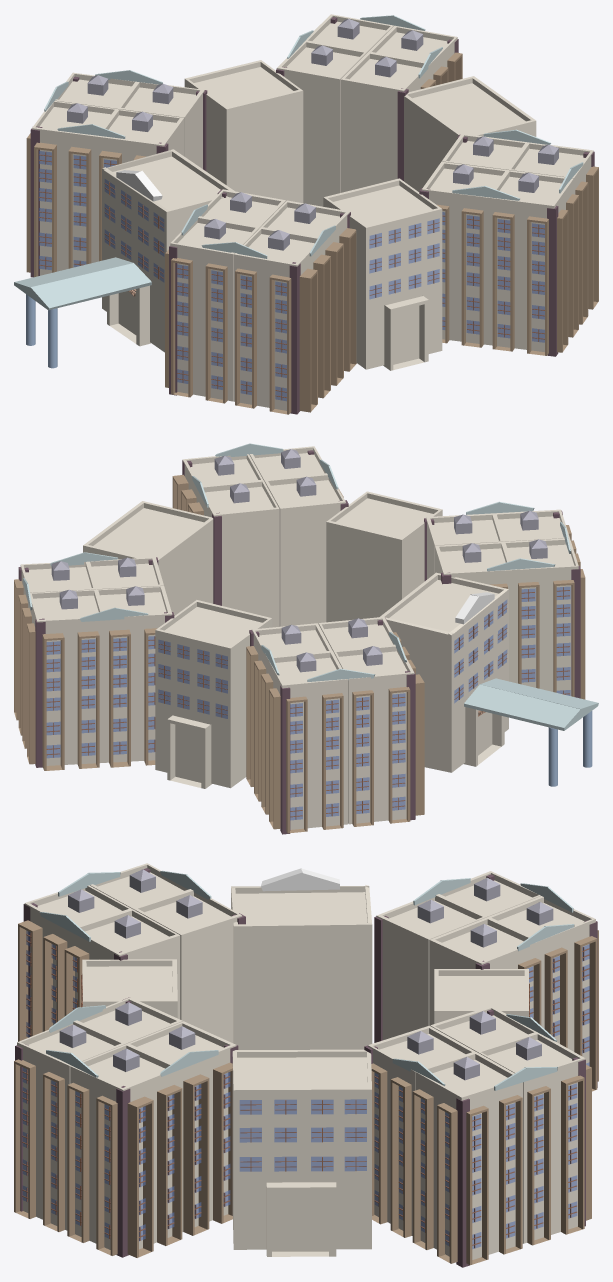
Rendered from library.glb.
The picture shows the model from 3 angles, top to bottom: view 1: azimuth 30°, elevation 25°; view 2: azimuth 150°, elevation 25°; view 3: azimuth 270°, elevation 25°; orthographic projection. The views are drawn at different scales.
Visible parts, largest first — view 1: Cube.001, Cube.004, Cube.002, Cube.017, Cube, Cube.013, Cube.005, Cylinder.002; view 2: Cube.004, Cube.001, Cube.002, Cube.017, Cube, Cube.013, Cube.005, Cylinder.001, Cube.012, Cylinder.002, Cube.008, Cube.015; view 3: Cube.004, Cube.001, Cube.017, Cube.002, Cube.013, Cube.005, Cube.009, Cube.011, Cube.007, Cube.010.
Part boxes in pixels (<box>): Cube.001: <box>165,133,598,414</box>; Cube.004: <box>26,14,462,277</box>; Cube.002: <box>102,149,234,352</box>; Cube.017: <box>404,76,536,191</box>; Cube: <box>14,257,151,310</box>; Cube.013: <box>287,15,442,78</box>; Cube.005: <box>116,170,162,201</box>; Cylinder.002: <box>48,308,57,368</box>; Cube.004: <box>14,557,424,834</box>; Cube.001: <box>172,446,585,699</box>; Cube.002: <box>379,572,508,772</box>; Cube.017: <box>83,501,213,615</box>; Cube: <box>464,678,598,730</box>; Cube.013: <box>23,552,148,621</box>; Cube.005: <box>455,592,494,624</box>; Cylinder.001: <box>548,727,557,786</box>; Cube.012: <box>215,443,283,456</box>; Cylinder.002: <box>583,711,592,767</box>; Cube.008: <box>466,501,534,514</box>; Cube.015: <box>307,668,375,681</box>; Cube.004: <box>364,871,598,1267</box>; Cube.001: <box>14,863,245,1257</box>; Cube.017: <box>232,1049,371,1256</box>; Cube.002: <box>231,885,372,1049</box>; Cube.013: <box>392,1014,557,1090</box>; Cube.005: <box>261,868,339,891</box>; Cube.009: <box>58,872,120,896</box>; Cube.011: <box>160,1050,218,1076</box>; Cube.007: <box>413,878,470,905</box>; Cube.010: <box>49,1005,105,1032</box>.
Bounding box in the file's own units: 80.35 × 25.44 × 72.22.
